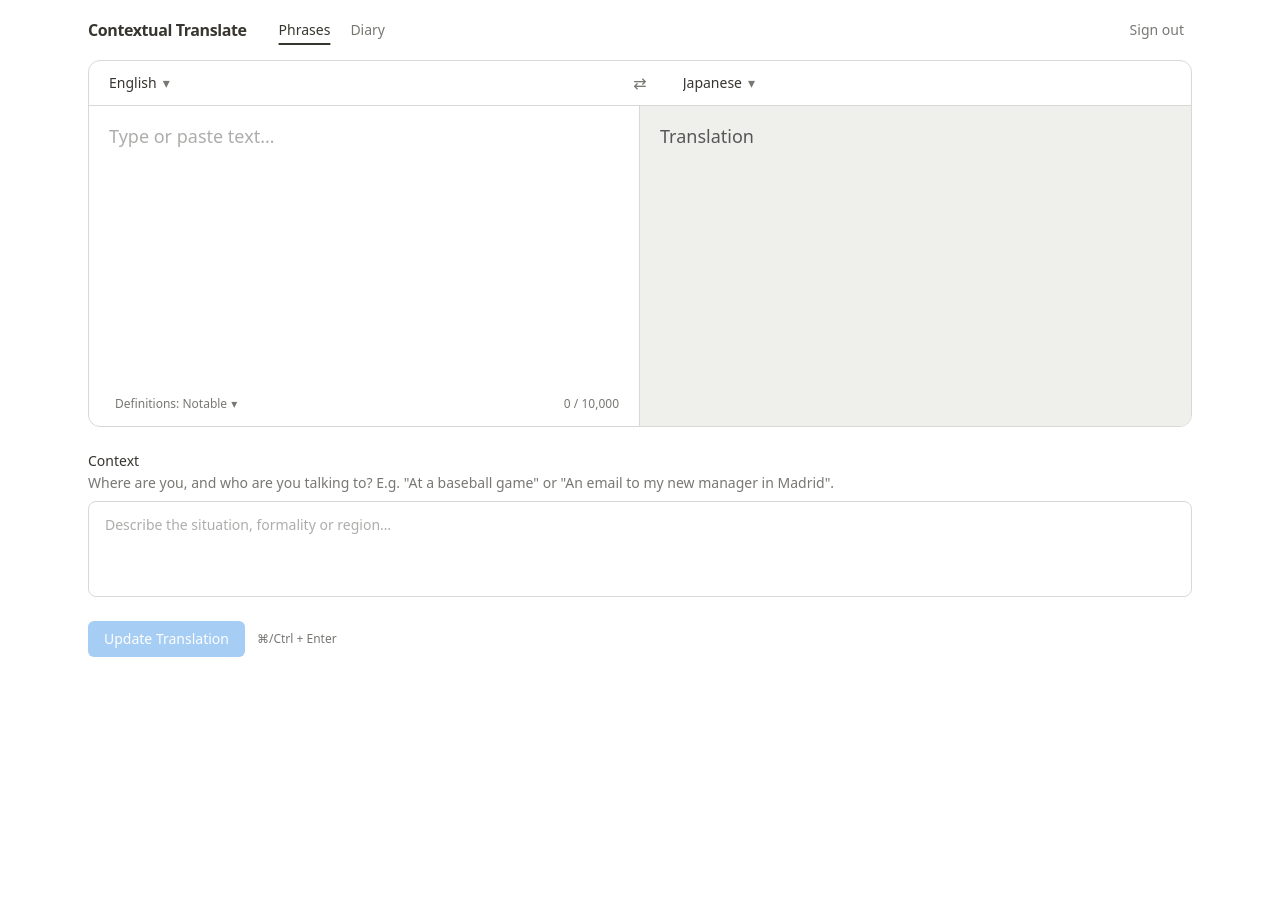
App session flow › signs out back to the gate
The width and height of the screenshot is (1280, 900).
Click the button "Sign out". click: (1157, 30)
box: [1122,16,1192,44]
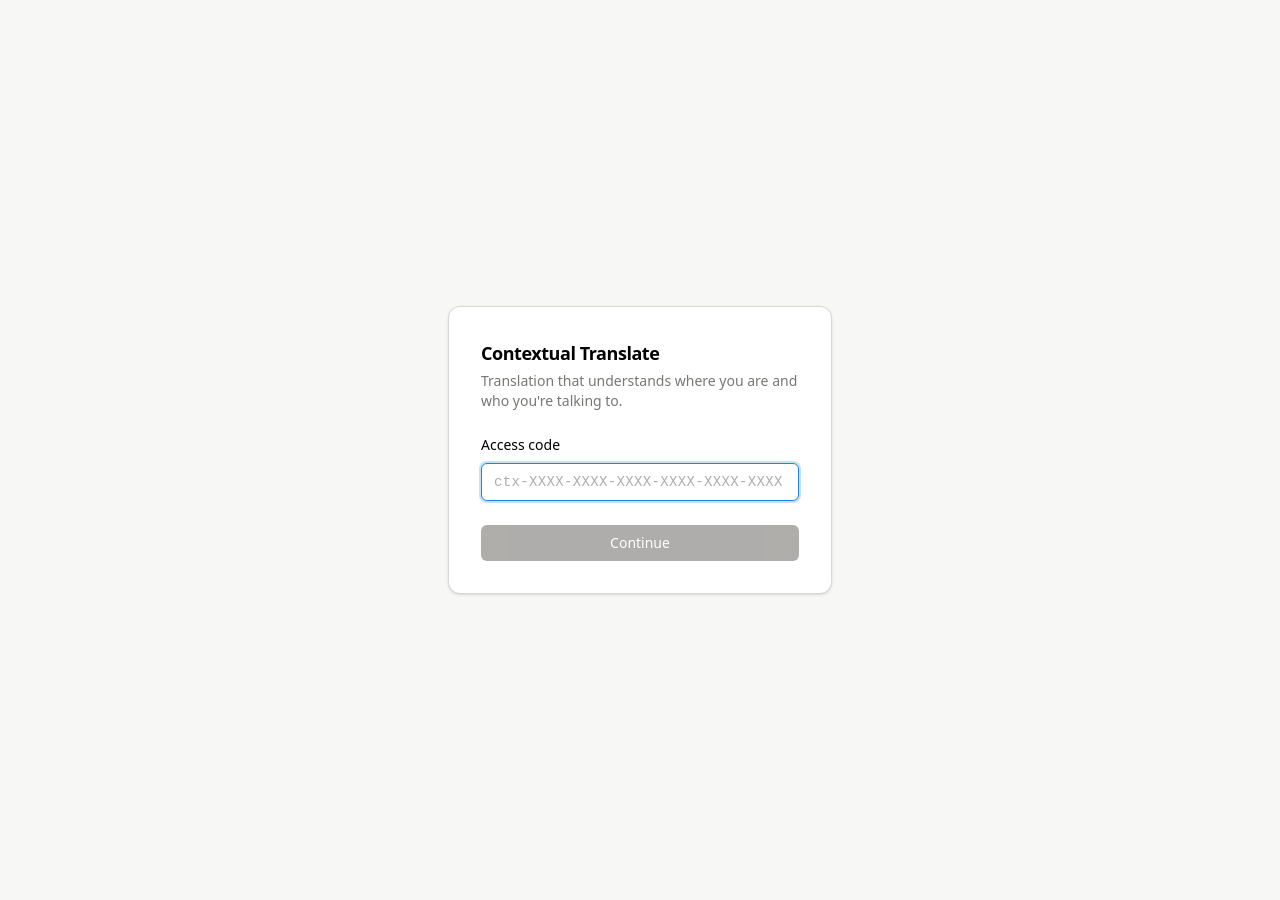
Now the field labelled "Access code" is shown, box [481,463,799,501]
